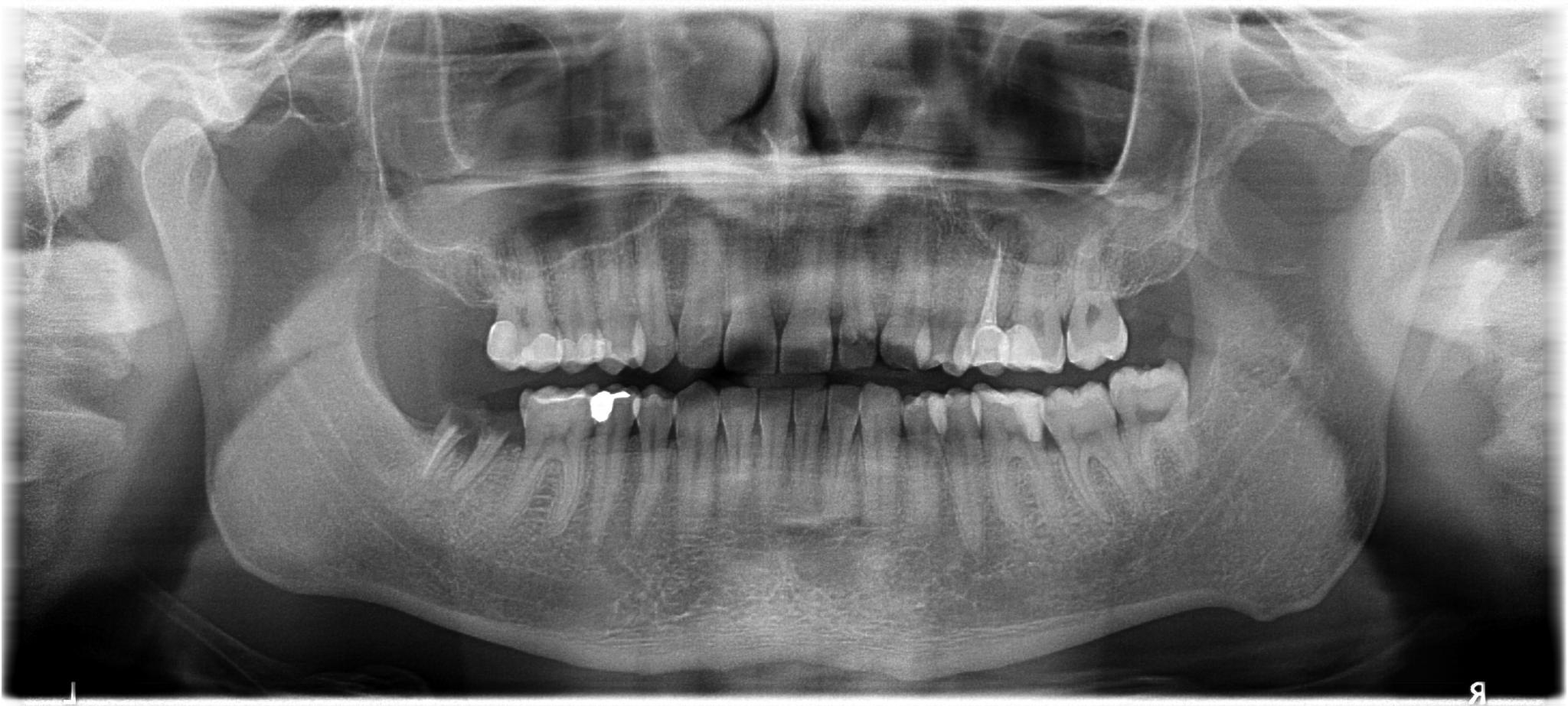Premolars: (570, 231, 1568, 615), (271, 215, 750, 609)
